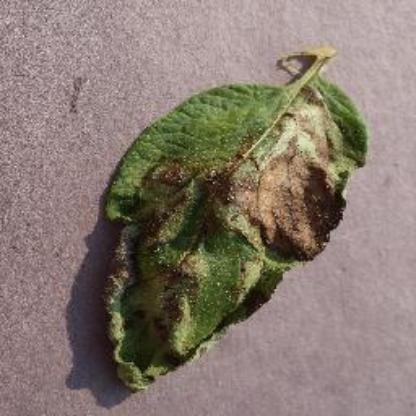Late-Blight: (93, 42, 370, 396)
